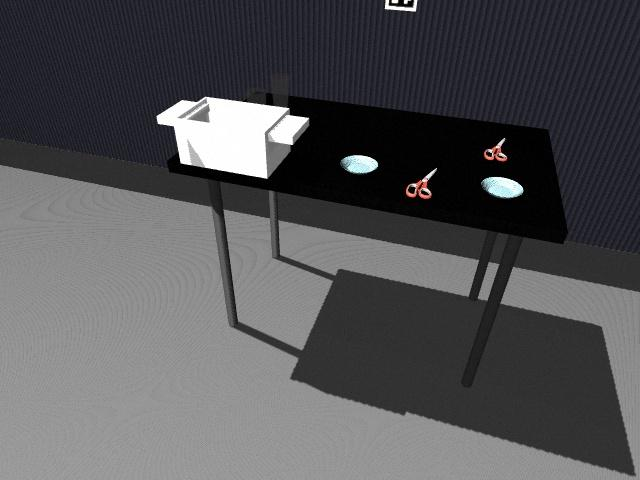cup: (267, 74, 288, 104), (246, 90, 269, 106)
plate: (479, 176, 524, 199), (339, 154, 379, 175)
scissors: (406, 167, 436, 200), (484, 137, 508, 162)
